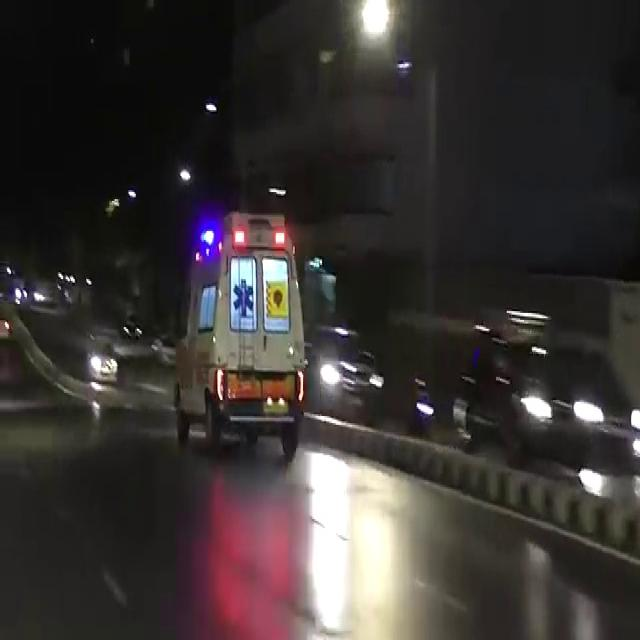ambulance: (182, 200, 318, 438)
